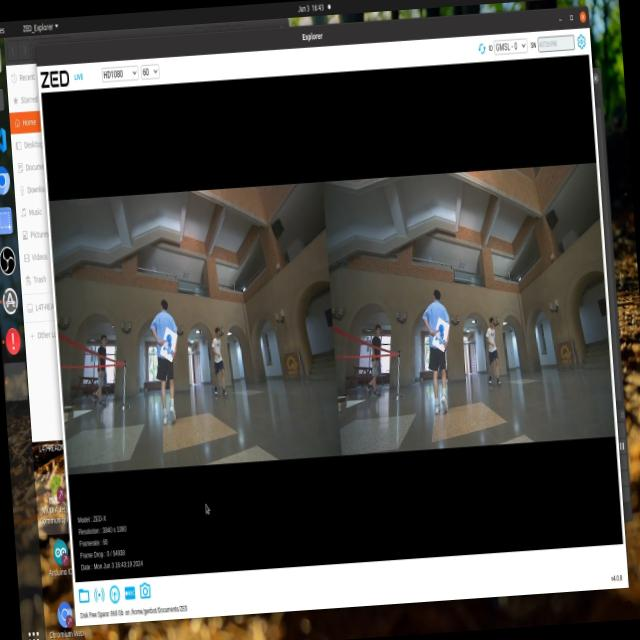blue: (428, 318, 450, 357), (162, 332, 178, 358)
